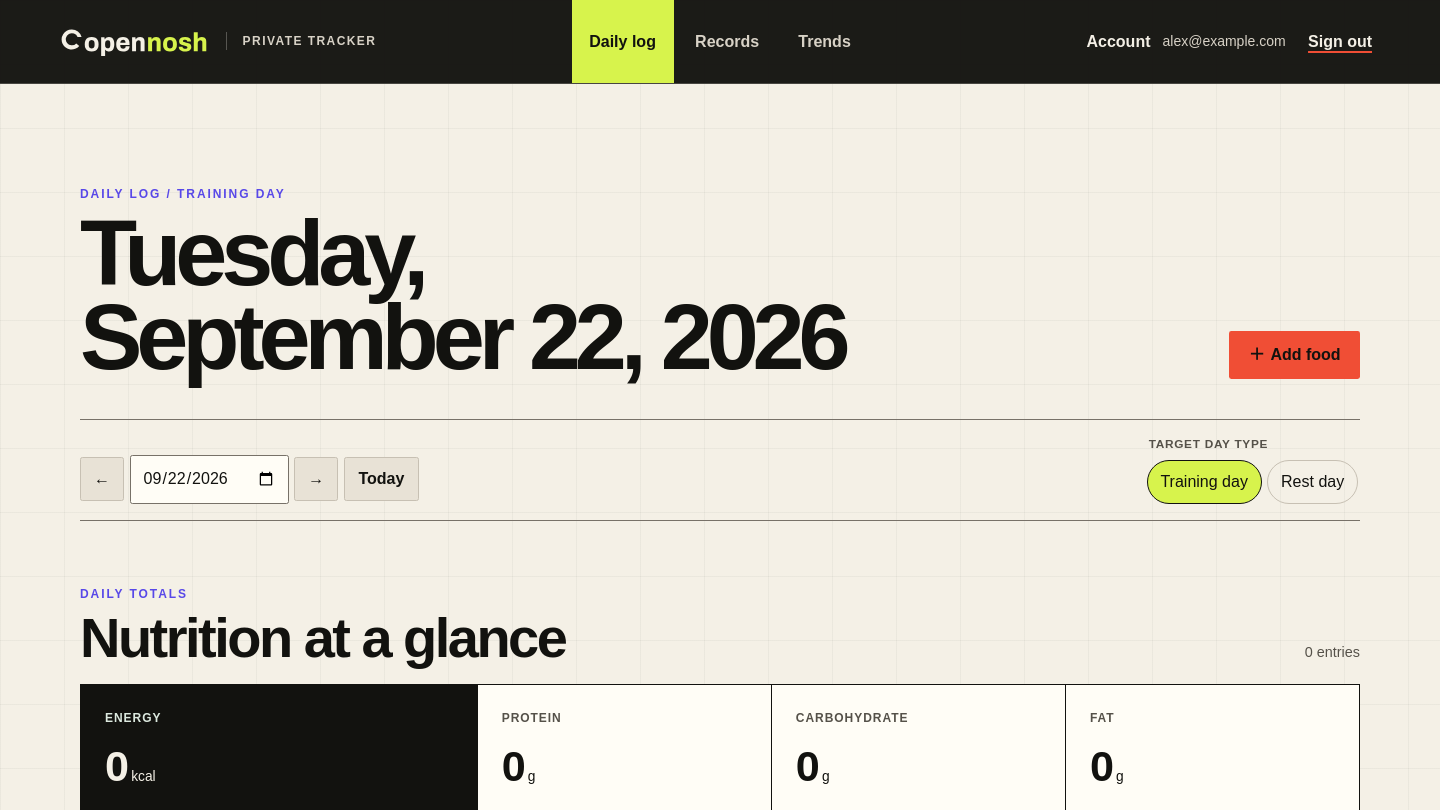
Scenario: daily nutrition log › searches and adds a food using the session CSRF token
Check: the heading "Nutrition at a glance" is shown, box [80,611,565,664]
Click the button "＋ Add food" at {"x": 1295, "y": 355}, box [1229,331,1360,379]
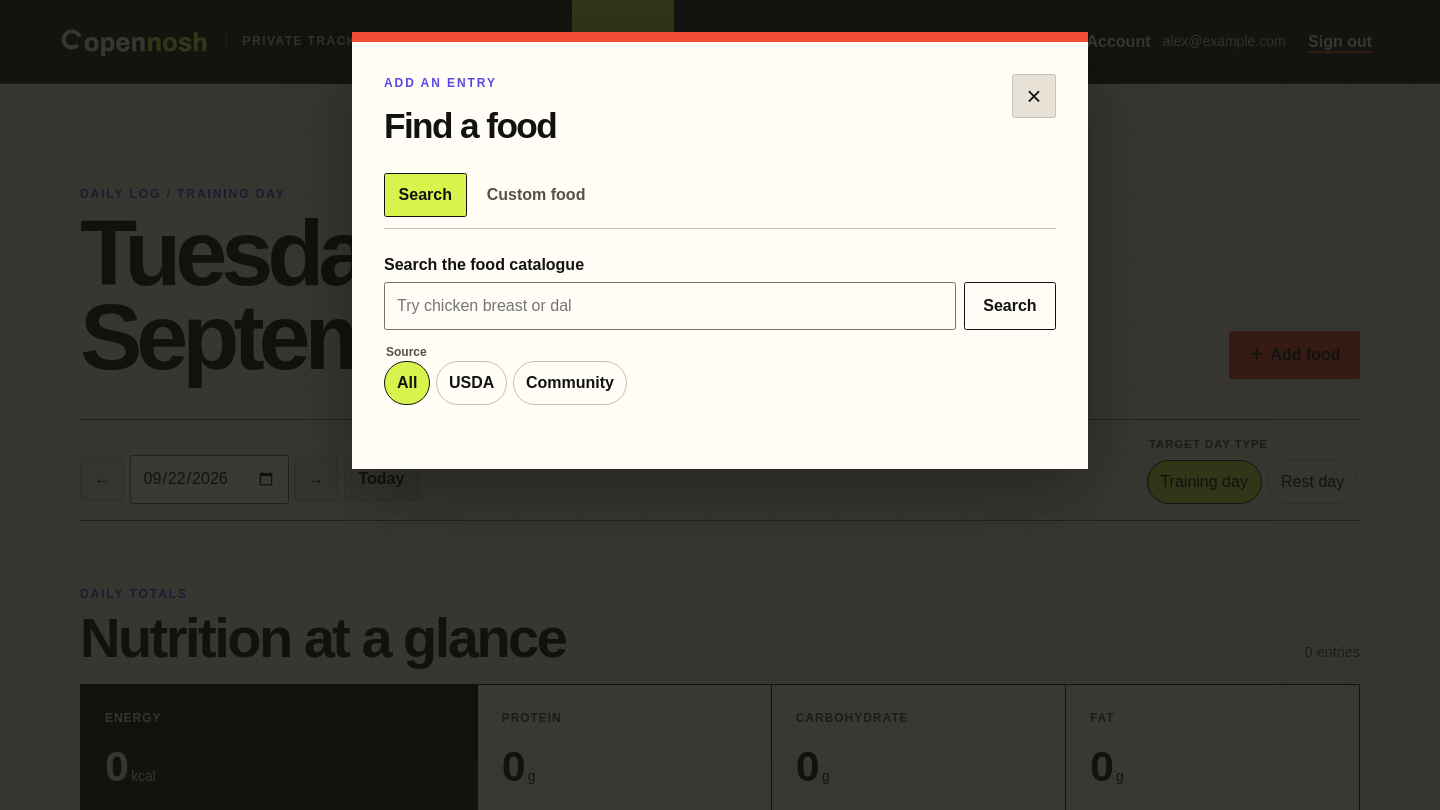
Type "chicken" into the search field labelled "Search the food catalogue" at {"x": 670, "y": 306}, box [384,282,956,330]
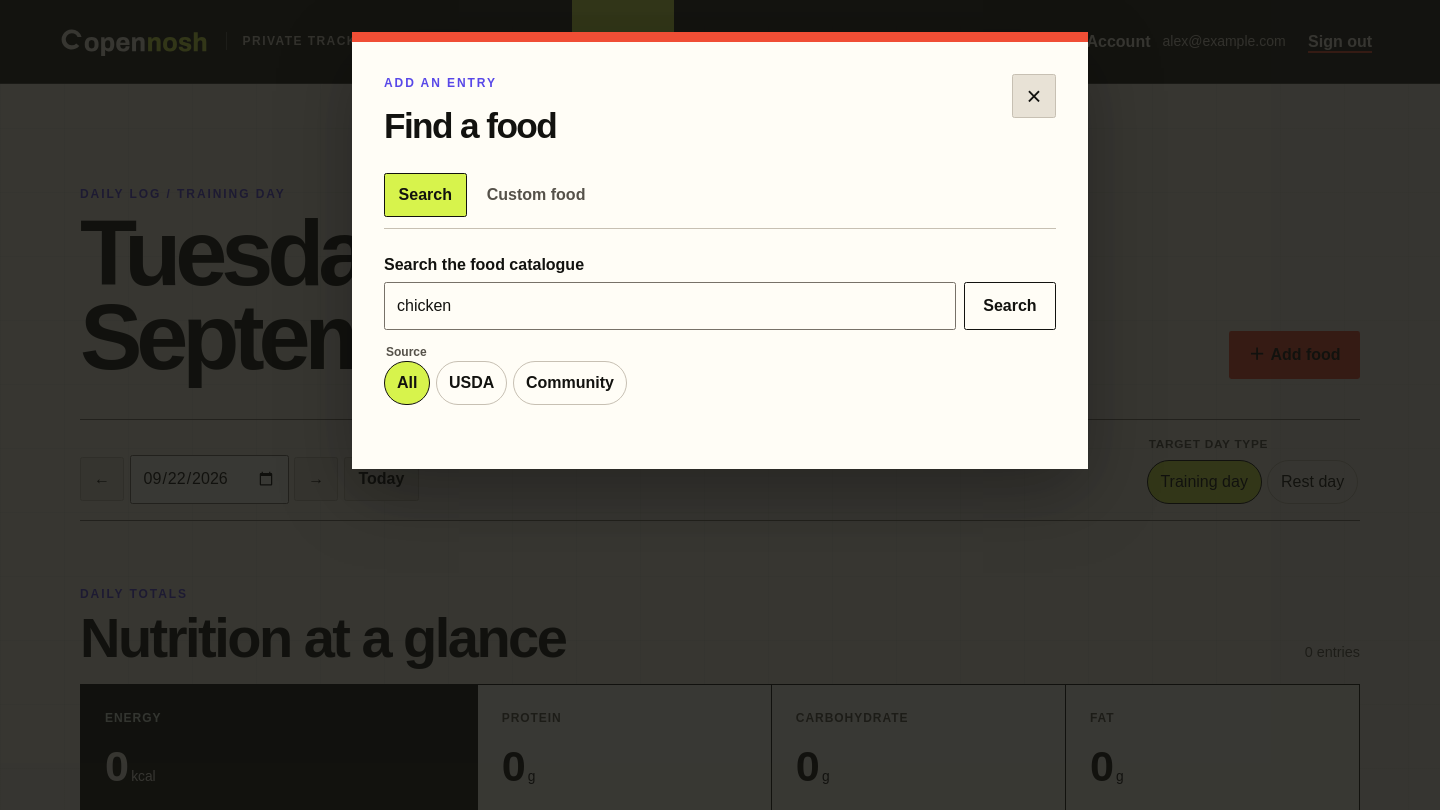
Click the button "Search" at {"x": 1010, "y": 306}, box [964,282,1056,330]
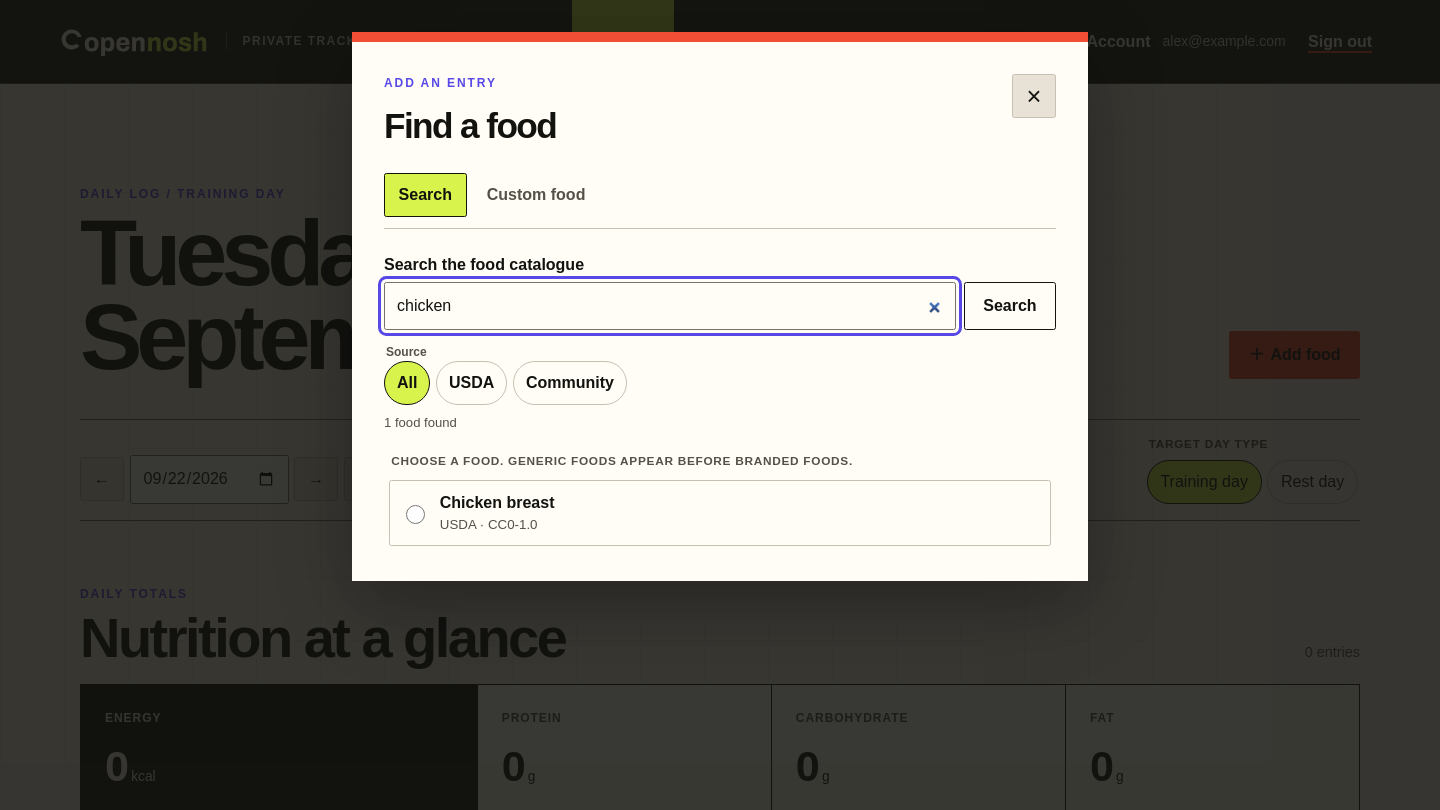
Click the radio button labelled "Chicken breast USDA · CC0-1.0" at {"x": 415, "y": 514}, box [406,505,425,524]
(page scrolled)
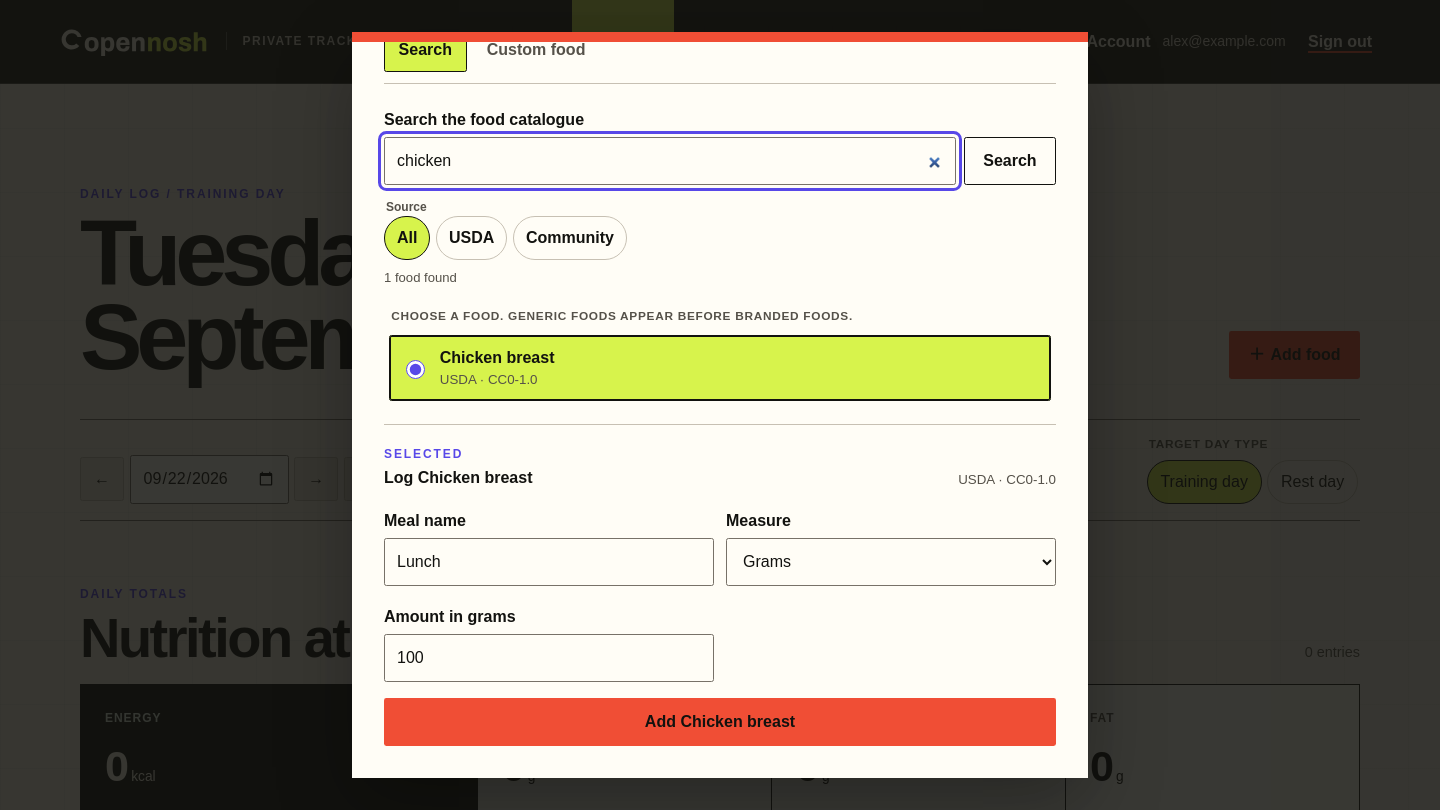
Replace the text in the number field labelled "Amount in grams" with "150" at {"x": 549, "y": 658}, box [384,634,714,682]
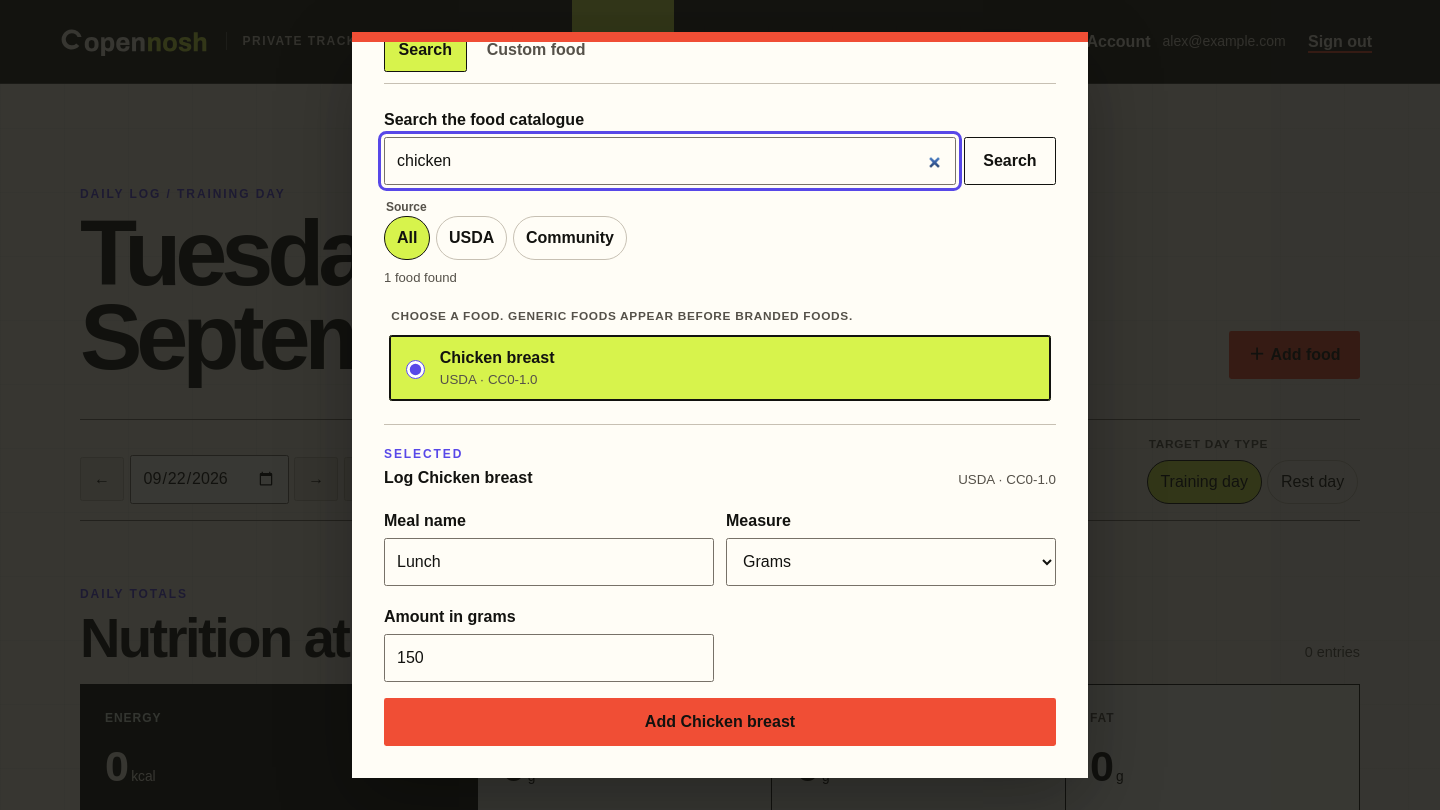
Click the button "Add Chicken breast" at {"x": 720, "y": 722}, box [384,698,1056,746]
(page scrolled)
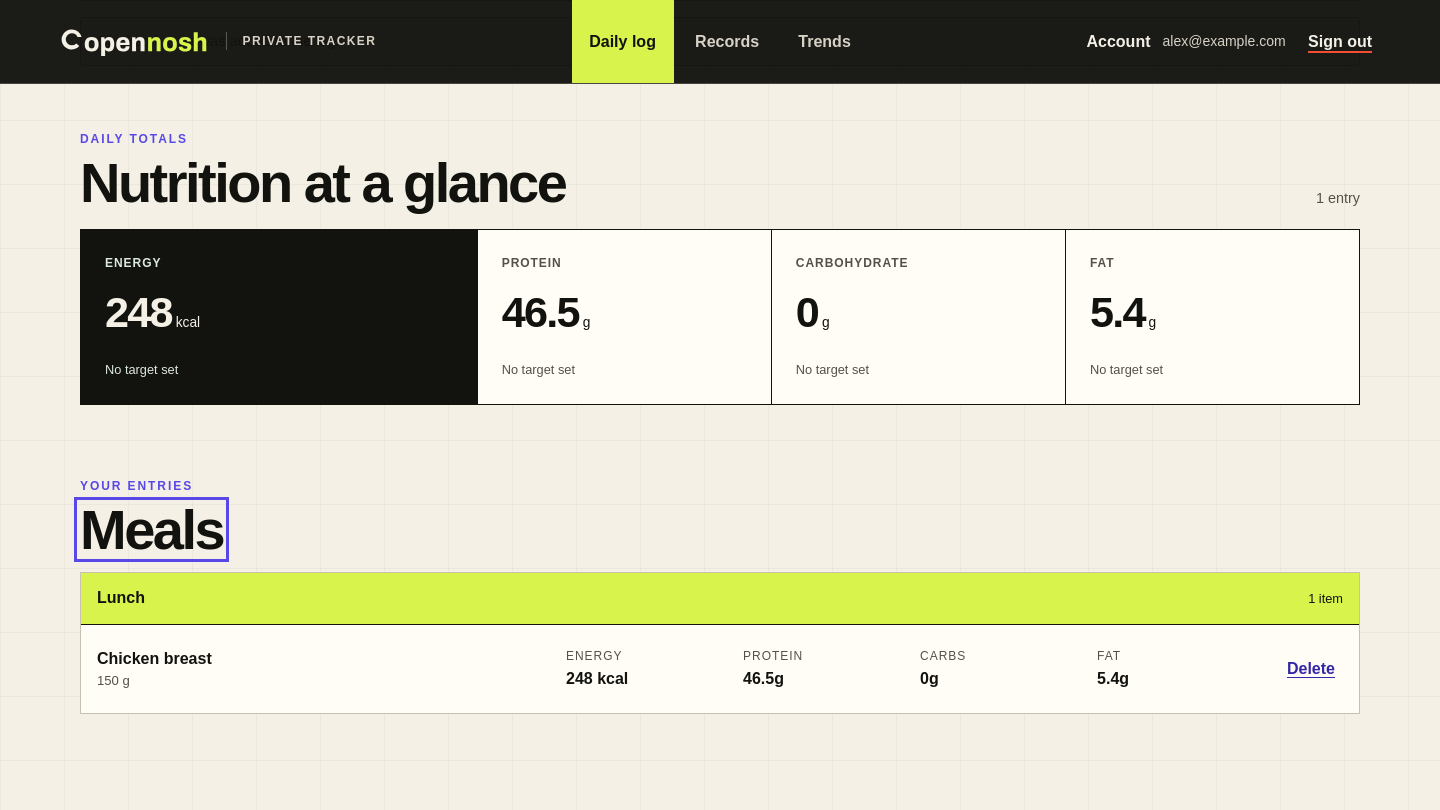
Check: the text "Chicken breast" is shown, box [97,650,212,667]
Check: the text "Chicken breast was added to the log." is shown, box [80,17,1360,66]
Check: the element "Lunch" is shown, box [80,572,1360,714]
